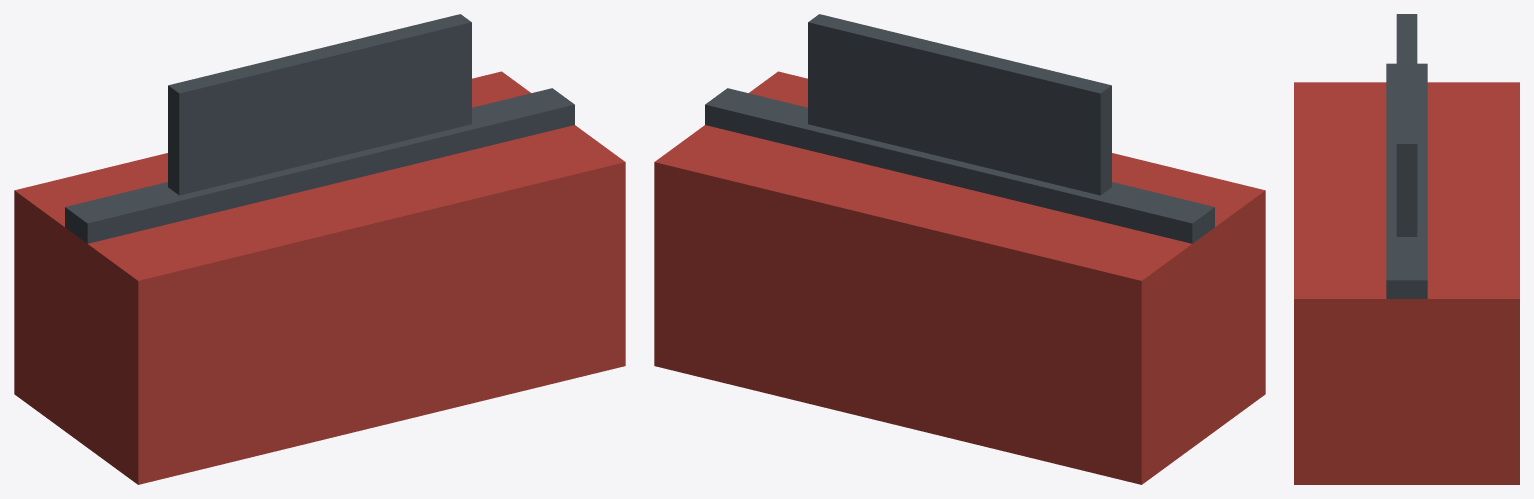
The model's file is GD_Toolbox_01.glb.
3 renders of one model, left to right at view 1: azimuth 30°, elevation 25°; view 2: azimuth 150°, elevation 25°; view 3: azimuth 270°, elevation 25°, orthographic. The views are drawn at different scales.
Visible parts, largest first — view 1: GD_Toolbox_01; view 2: GD_Toolbox_01; view 3: GD_Toolbox_01.
Part boxes in pixels (<box>): GD_Toolbox_01: <box>14,14,625,484</box>; GD_Toolbox_01: <box>654,14,1265,484</box>; GD_Toolbox_01: <box>1294,14,1519,484</box>.
Size of the model in its own units: 0.5 by 0.32 by 0.22.
1 material, 1 textured.
